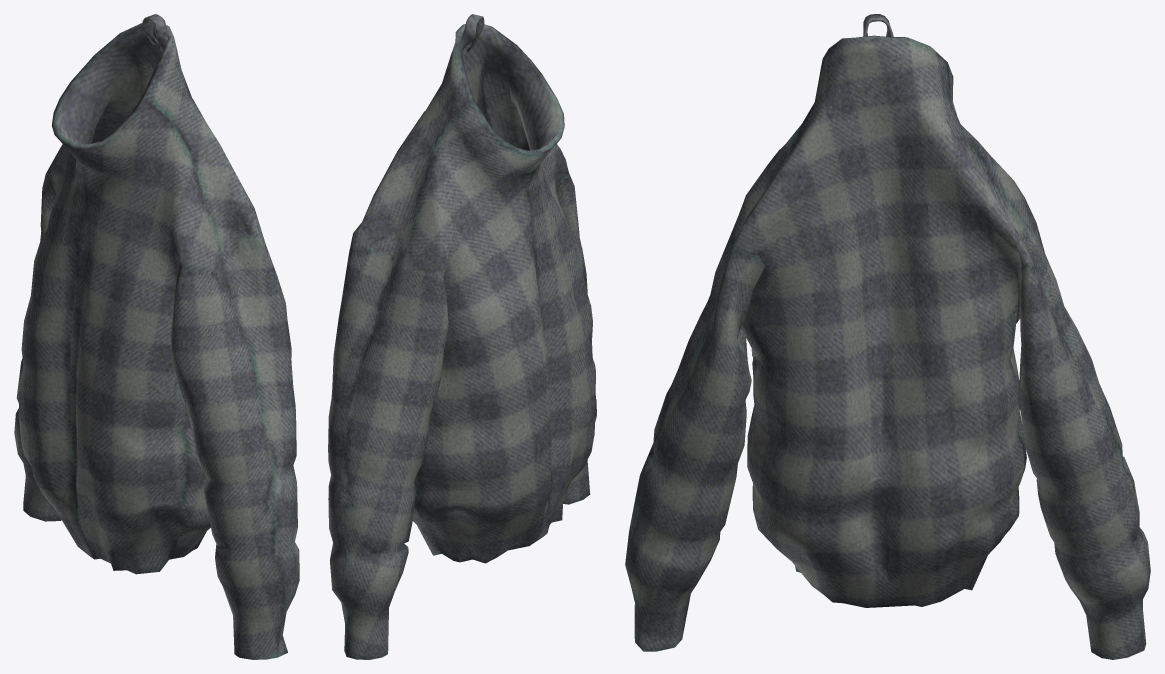
The model's file is SM_Cloth_A1.fbx.
The picture shows the model from 3 angles, left to right: view 1: azimuth 30°, elevation 25°; view 2: azimuth 150°, elevation 25°; view 3: azimuth 270°, elevation 25°; orthographic projection. The views are drawn at different scales.
Visible parts, largest first — view 1: SM_Cloth_A1; view 2: SM_Cloth_A1; view 3: SM_Cloth_A1.
Part boxes in pixels (x1=…): SM_Cloth_A1: x1=14, y1=14, x2=299, y2=659; SM_Cloth_A1: x1=328, y1=14, x2=596, y2=659; SM_Cloth_A1: x1=625, y1=14, x2=1150, y2=659.
Bounding box in the file's own units: 27.53 × 68.42 × 90.98.
Materials: 1 (1 with a texture image).
